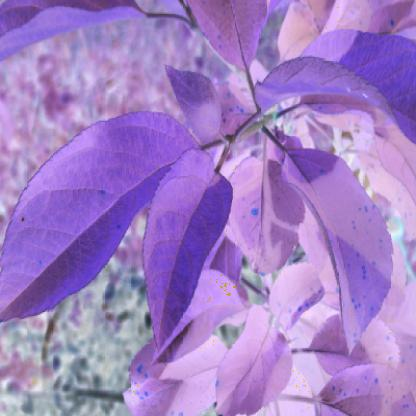apple leaf: (2, 92, 204, 334), (278, 139, 401, 362), (141, 141, 236, 365)
